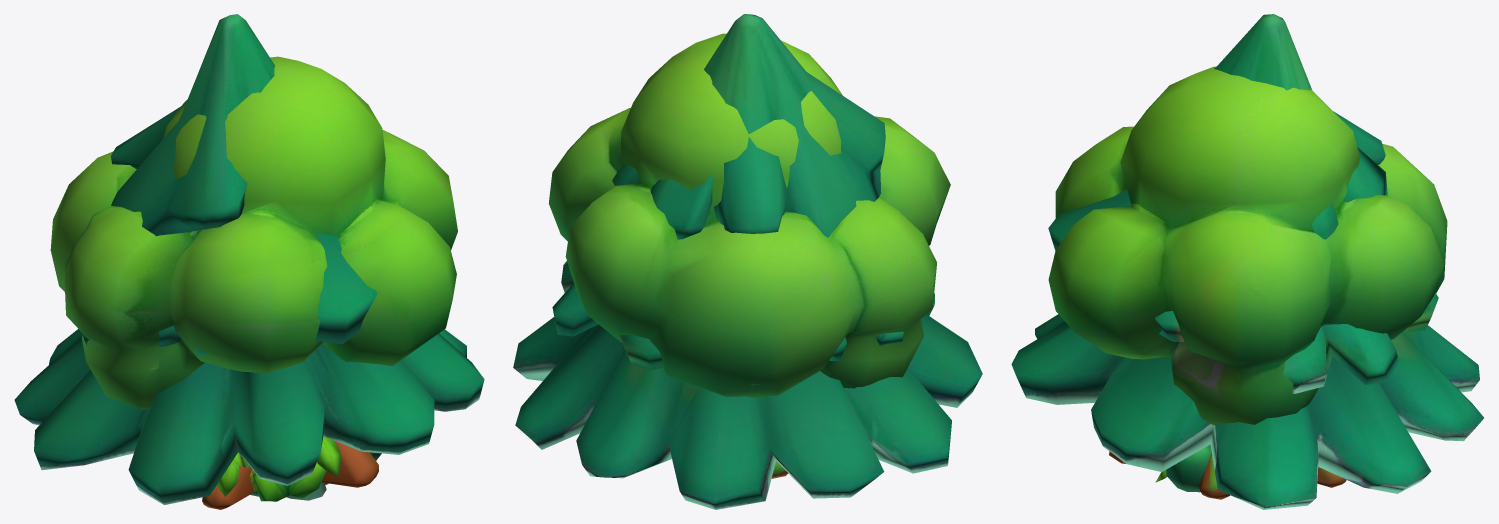
Rendered from Props.glb.
3 renders of one model, left to right at view 1: azimuth 30°, elevation 25°; view 2: azimuth 150°, elevation 25°; view 3: azimuth 270°, elevation 25°, orthographic.
Visible parts, largest first — view 1: Prop__Tree, Prop__Pine, Prop__Stump, Prop__Fern; view 2: Prop__Tree, Prop__Pine; view 3: Prop__Tree, Prop__Pine, Prop__Bush, Prop__Stump.
Boxes of the visible parts, <box> form: Prop__Tree: <box>50,56,457,484</box>; Prop__Pine: <box>14,14,484,504</box>; Prop__Stump: <box>202,441,378,509</box>; Prop__Fern: <box>216,436,341,497</box>; Prop__Tree: <box>548,33,950,398</box>; Prop__Pine: <box>513,14,982,509</box>; Prop__Tree: <box>1048,66,1447,425</box>; Prop__Pine: <box>1011,14,1483,509</box>; Prop__Bush: <box>1166,445,1211,492</box>; Prop__Stump: <box>1109,449,1346,499</box>.
Bounding box in the file's own units: 18.62 × 18 × 18.
12 materials, 12 textured.
